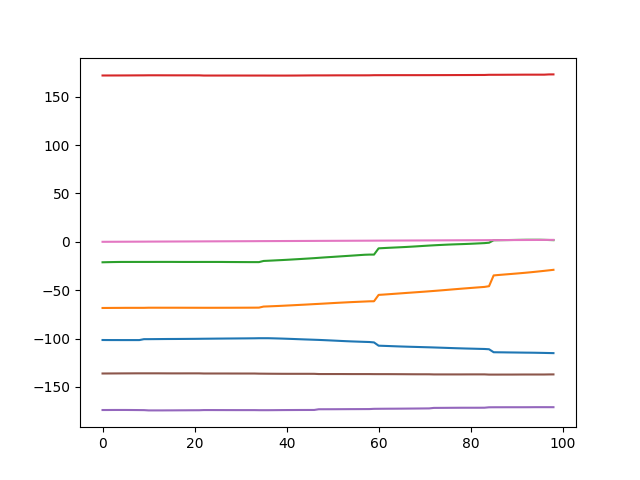Too_Slow_Down: (6, 1, 640, 480)
